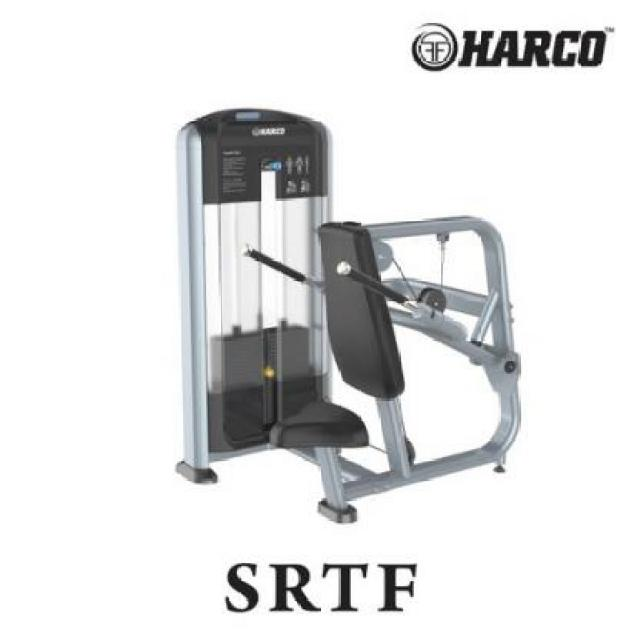seated dip machine: (178, 108, 524, 524)
